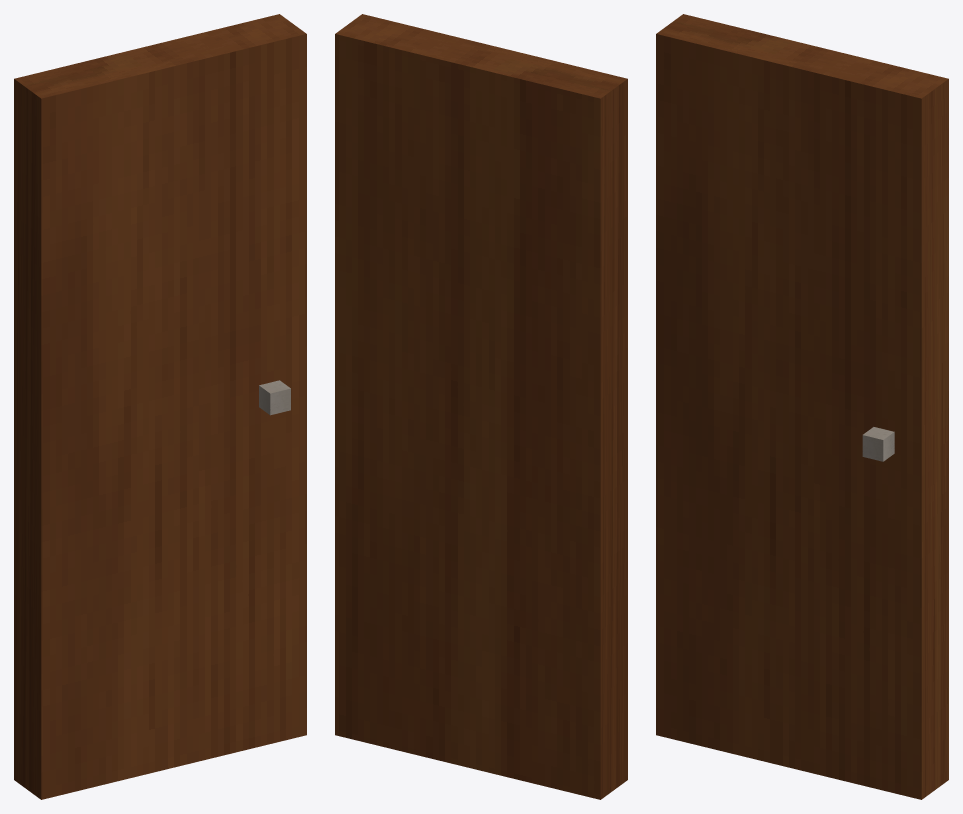
The model's file is Door.glb.
The picture shows the model from 3 angles, left to right: view 1: azimuth 30°, elevation 25°; view 2: azimuth 150°, elevation 25°; view 3: azimuth 330°, elevation 25°; orthographic projection.
Parts seen in each view (by area): view 1: Cube, Cube.001; view 2: Cube; view 3: Cube, Cube.001.
Part boxes in pixels (bbox=[...]): Cube: bbox=[14, 14, 306, 799]; Cube.001: bbox=[259, 380, 290, 415]; Cube: bbox=[335, 14, 627, 799]; Cube: bbox=[656, 14, 948, 799]; Cube.001: bbox=[862, 427, 894, 461].
Bounding box in the file's own units: 1.77 × 4.47 × 0.4446.
2 materials, 2 textured.
